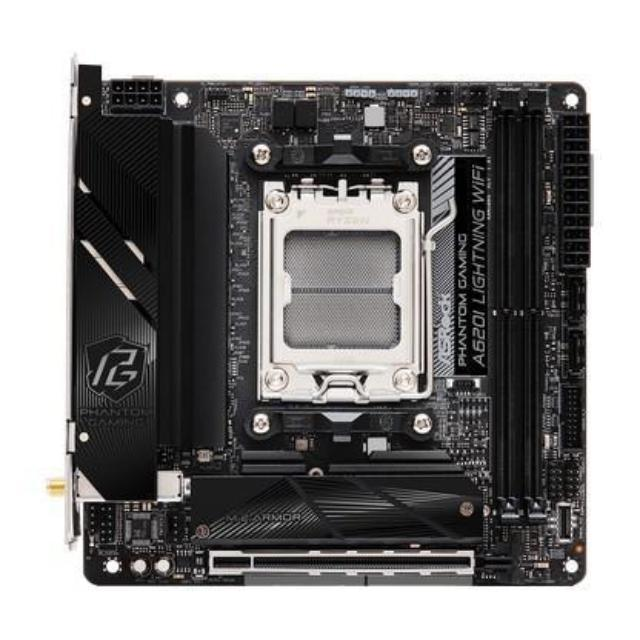Mainboard: (54, 51, 592, 596)
